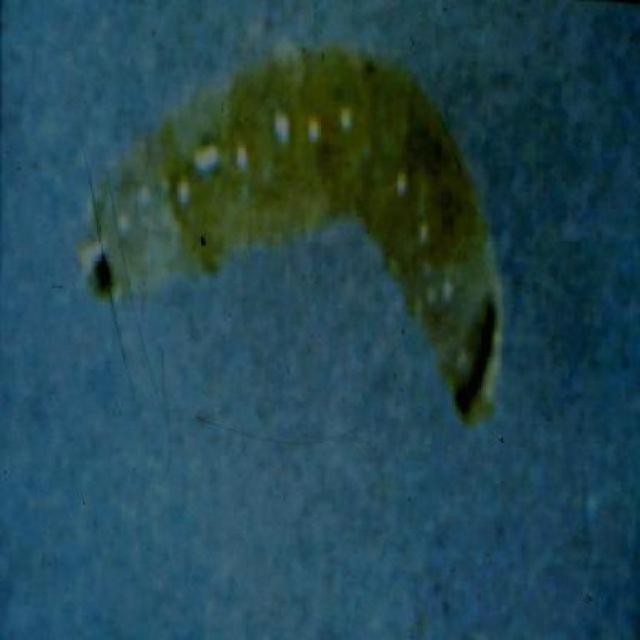whorl-maggot: (76, 38, 504, 430)
